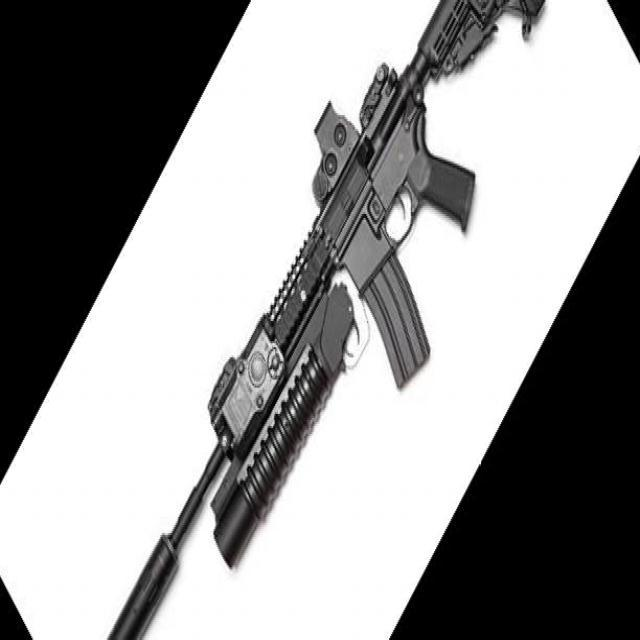weapon: (107, 0, 545, 640)
